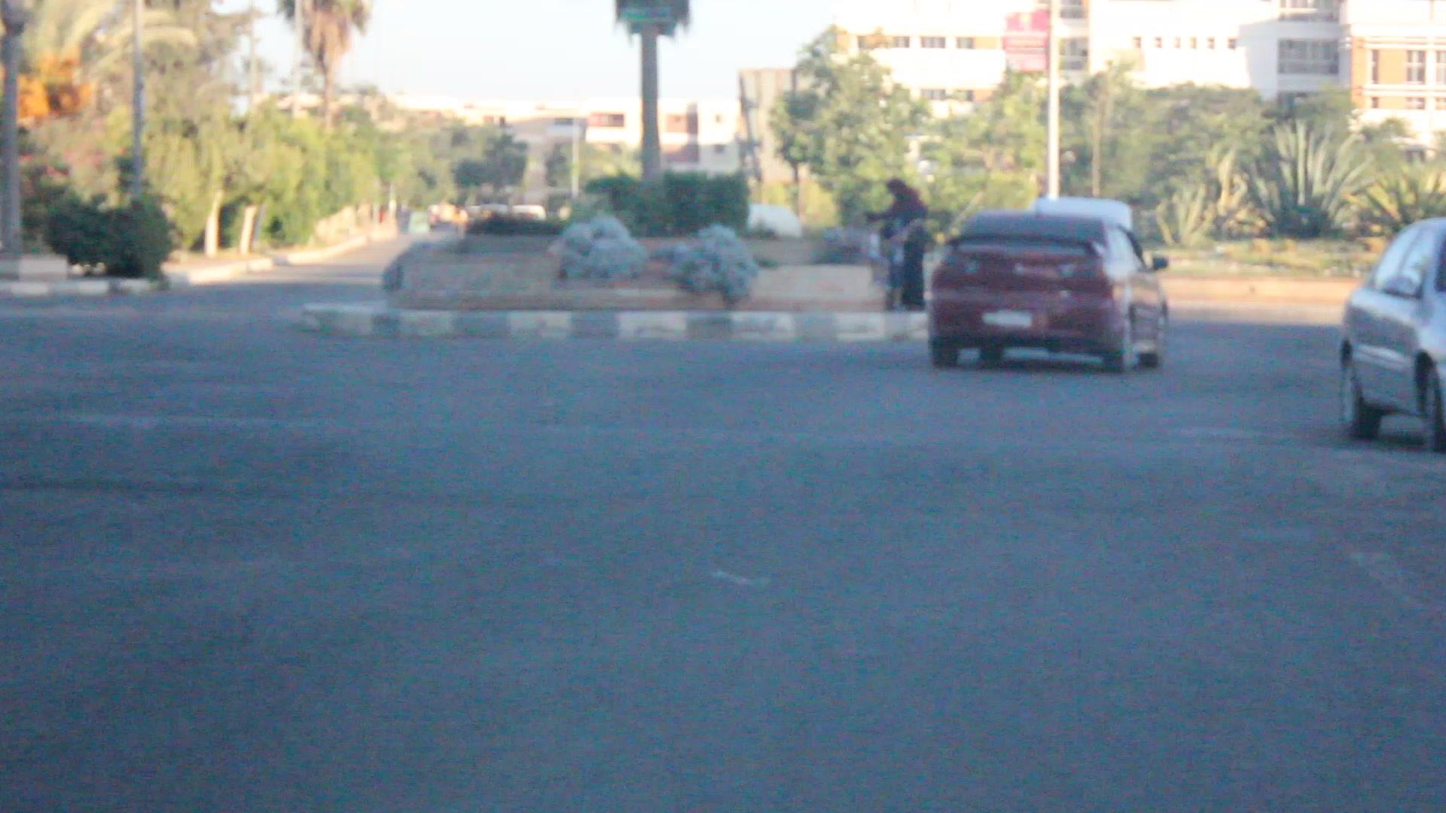Bump: (2, 403, 1446, 536)
